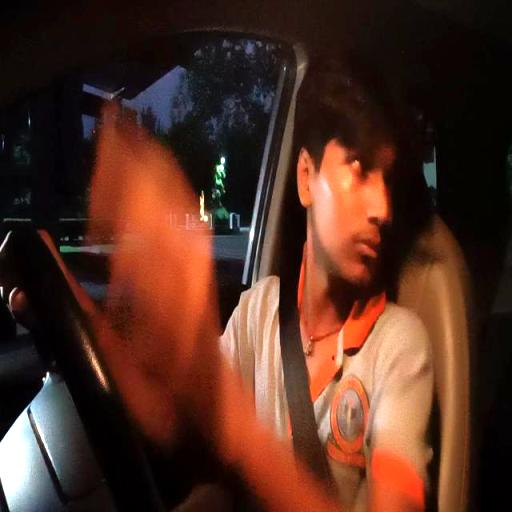Reaching_behind: (213, 59, 444, 488)
